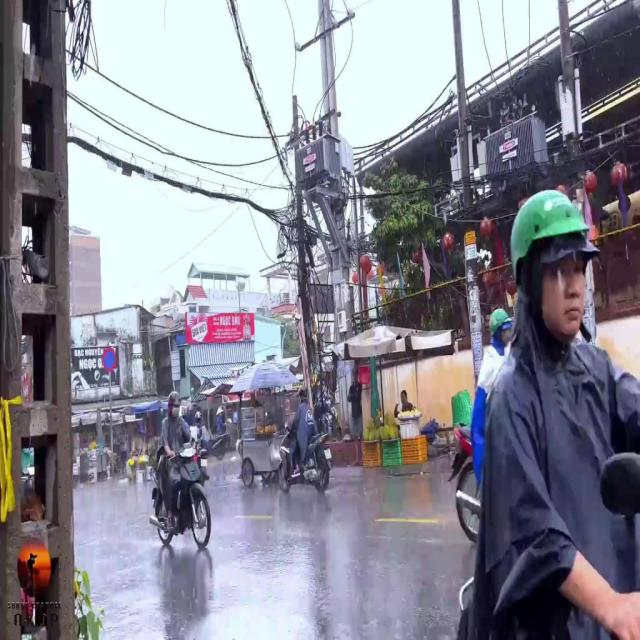cam_do_xe: (102, 347, 116, 373)
